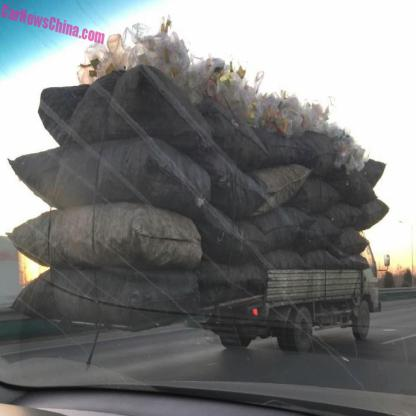overloaded-truck: (14, 39, 388, 362)
